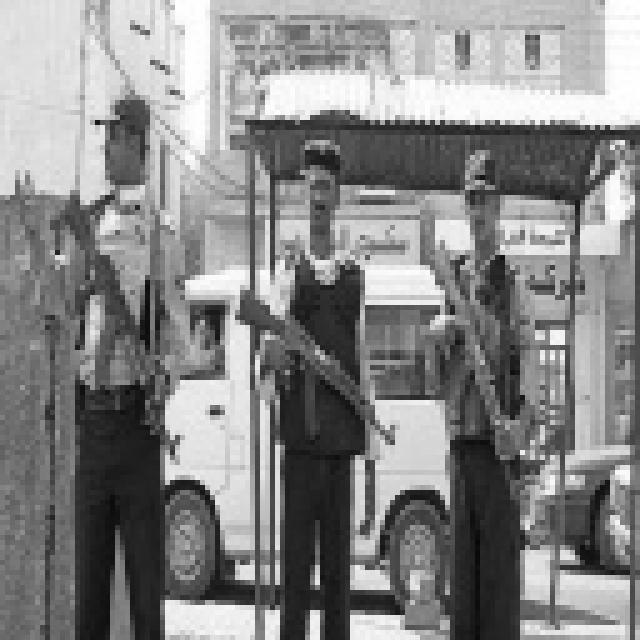Rifle: (40, 165, 216, 494), (411, 209, 574, 521), (217, 256, 427, 497)
